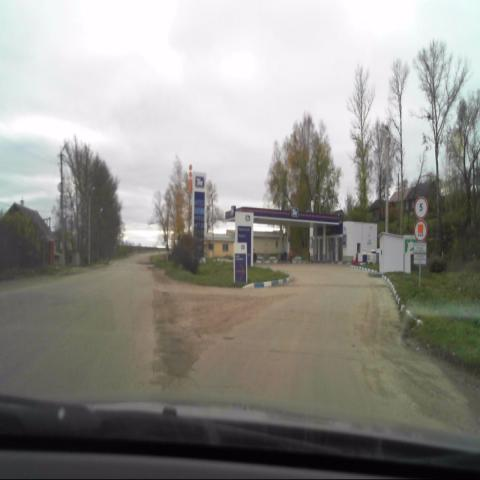3_32: (414, 221, 428, 241)
